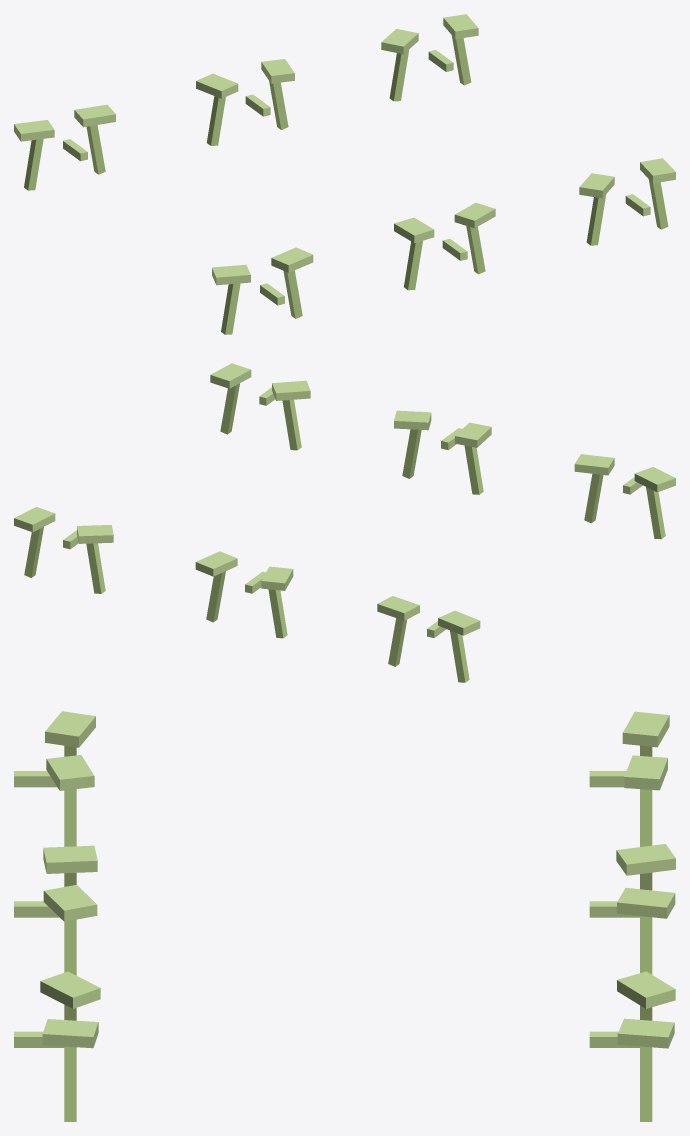
The model's file is crop_peas_sprout.glb.
The picture shows the model from 3 angles, top to bottom: view 1: azimuth 30°, elevation 25°; view 2: azimuth 150°, elevation 25°; view 3: azimuth 270°, elevation 25°; orthographic projection. The views are drawn at different scales.
Parts seen in each view (by area): view 1: leaf_light, wheat_green; view 2: leaf_light, wheat_green; view 3: leaf_light, wheat_green.
Boxes of the visible parts, x1,y1,x2,y2 form: leaf_light: (14,14,675,305); wheat_green: (24,35,668,334); leaf_light: (14,363,675,637); wheat_green: (24,383,665,682); leaf_light: (14,711,675,1048); wheat_green: (64,745,652,1121).
Size of the model in its own units: 0.751 by 0.0964 by 0.644.
